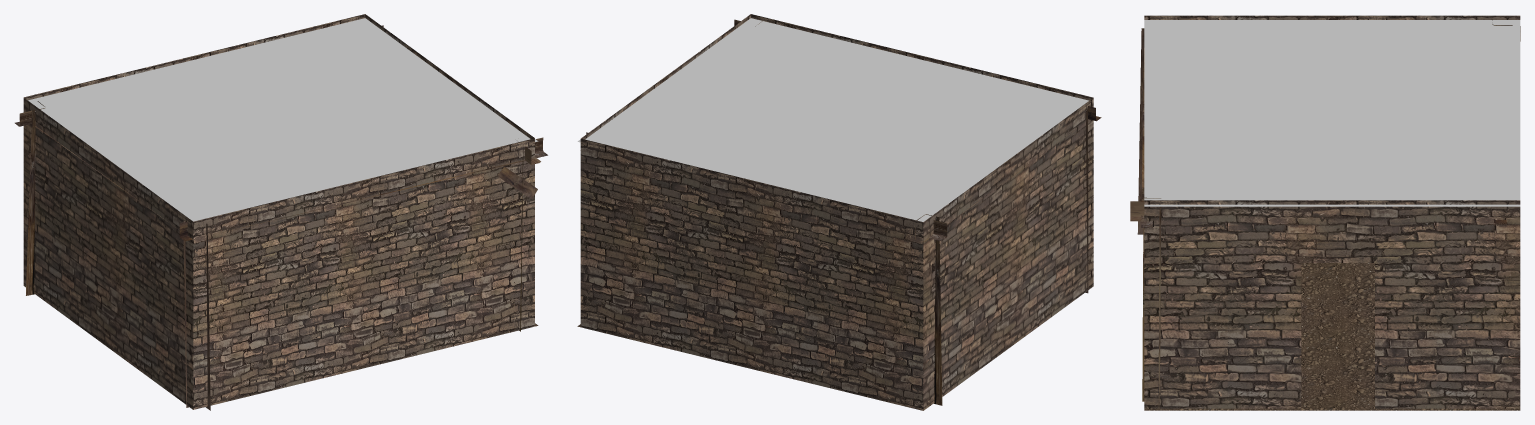
Rendered from finalroom.fbx.
3 views of the same model, side by side, from view 1: azimuth 30°, elevation 25°; view 2: azimuth 150°, elevation 25°; view 3: azimuth 270°, elevation 25° (orthographic). The views are drawn at different scales.
Visible parts, largest first — view 1: polySurface1932, polySurface1936, polySurface1935; view 2: polySurface1932, polySurface1936, polySurface1935; view 3: polySurface1932, polySurface1936, polySurface1929, polySurface1935.
Boxes of the visible parts, x1,y1,x2,y2 form: polySurface1932: [23, 14, 534, 409]; polySurface1936: [28, 18, 538, 221]; polySurface1935: [15, 25, 547, 410]; polySurface1932: [580, 14, 1093, 410]; polySurface1936: [577, 18, 1088, 221]; polySurface1935: [586, 19, 1101, 405]; polySurface1932: [1144, 15, 1520, 408]; polySurface1936: [1144, 20, 1520, 206]; polySurface1929: [1144, 263, 1520, 410]; polySurface1935: [1130, 20, 1520, 408].
Bounding box in the file's own units: 654 × 324 × 543.
